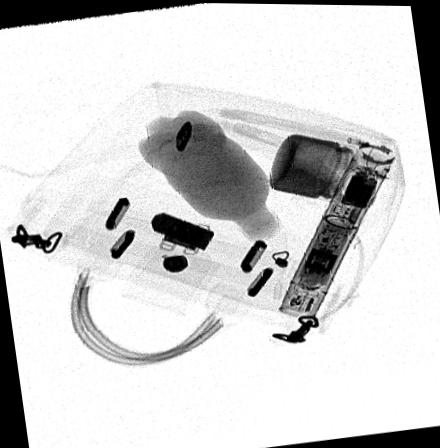Baton: (277, 142, 396, 319)
